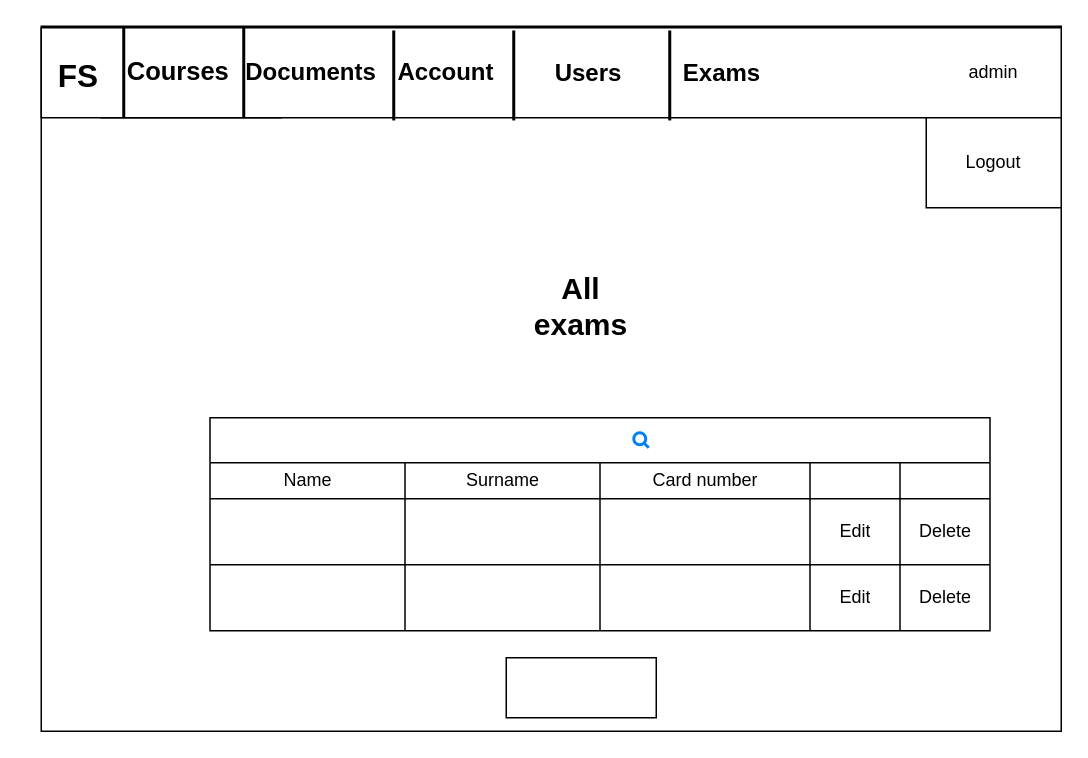
Image size: 1088x758. Some labels were removed from this diagram. Here are the shapes that lost their labels. From the top down, the box of each, then its label:
(208, 416, 990, 631): Search
(505, 656, 656, 718): Add exams
